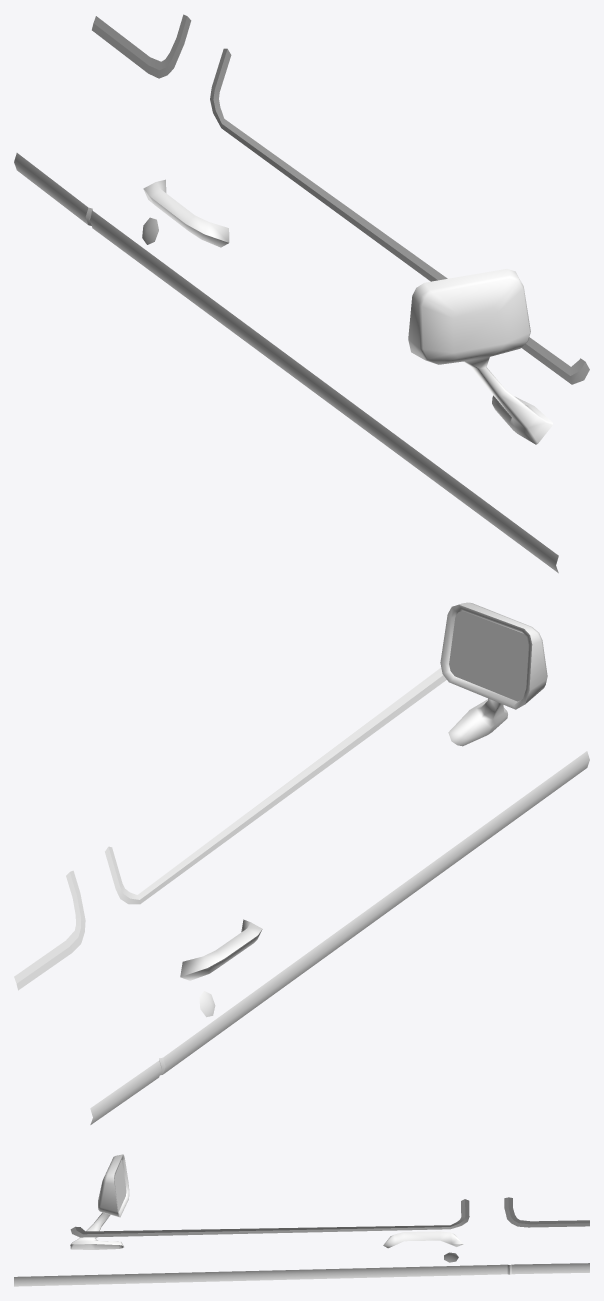
3 views of the same model, one above another, from view 1: azimuth 30°, elevation 25°; view 2: azimuth 150°, elevation 25°; view 3: azimuth 270°, elevation 25° (orthographic). The views are drawn at different scales.
Bounding box in the file's own units: 0.1505 × 0.2486 × 1.05.
Materials: 1 (1 with a texture image).
